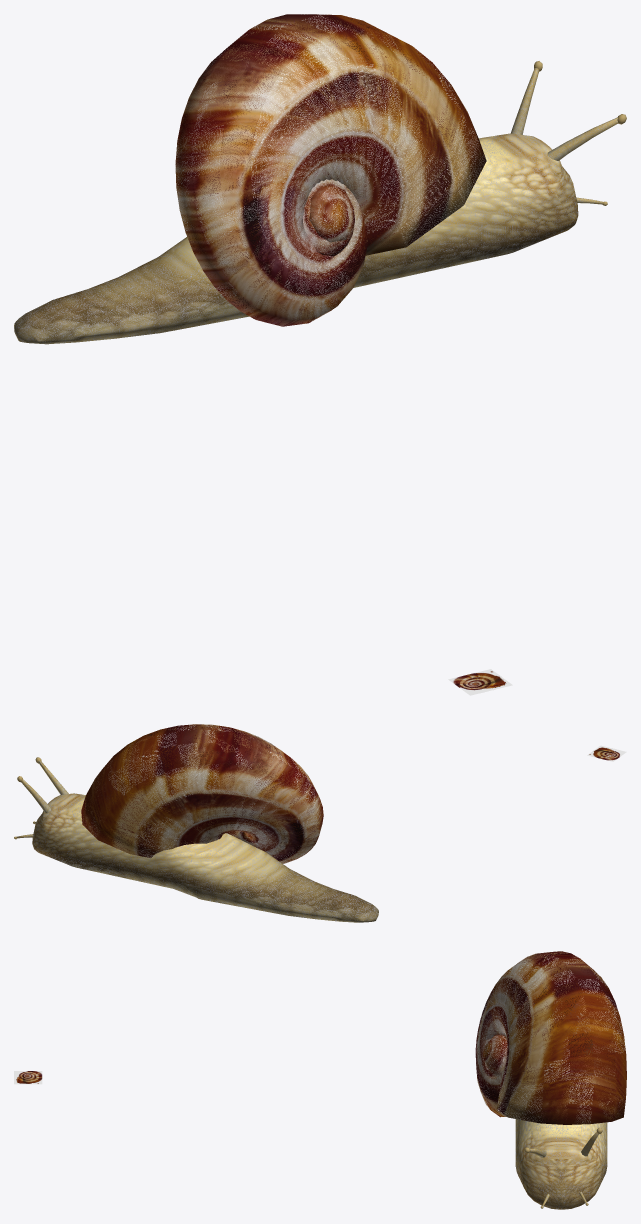
The model's file is snail.dae.
3 renders of one model, top to bottom at view 1: azimuth 30°, elevation 25°; view 2: azimuth 150°, elevation 25°; view 3: azimuth 270°, elevation 25°, orthographic. The views are drawn at different scales.
Parts seen in each view (by area): view 1: group_1, instance_1, group_2, instance_0, group_0; view 2: group_1, instance_0, instance_1, group_0; view 3: group_1, instance_1, instance_0, group_2, group_0.
Part boxes in pixels (x1,y1,x2,y2): group_1: (175,14,486,326); instance_1: (17,141,578,344); group_2: (302,179,354,256); instance_0: (14,133,542,340); group_0: (448,669,512,695); group_1: (81,724,323,863); instance_0: (32,798,376,922); instance_1: (54,793,378,919); group_0: (587,745,626,761); group_1: (475,951,626,1124); instance_1: (515,1119,561,1209); instance_0: (561,1122,607,1209); group_2: (483,1032,507,1078); group_0: (14,1071,42,1084).
Size of the model in its own units: 599 by 859 by 287.
